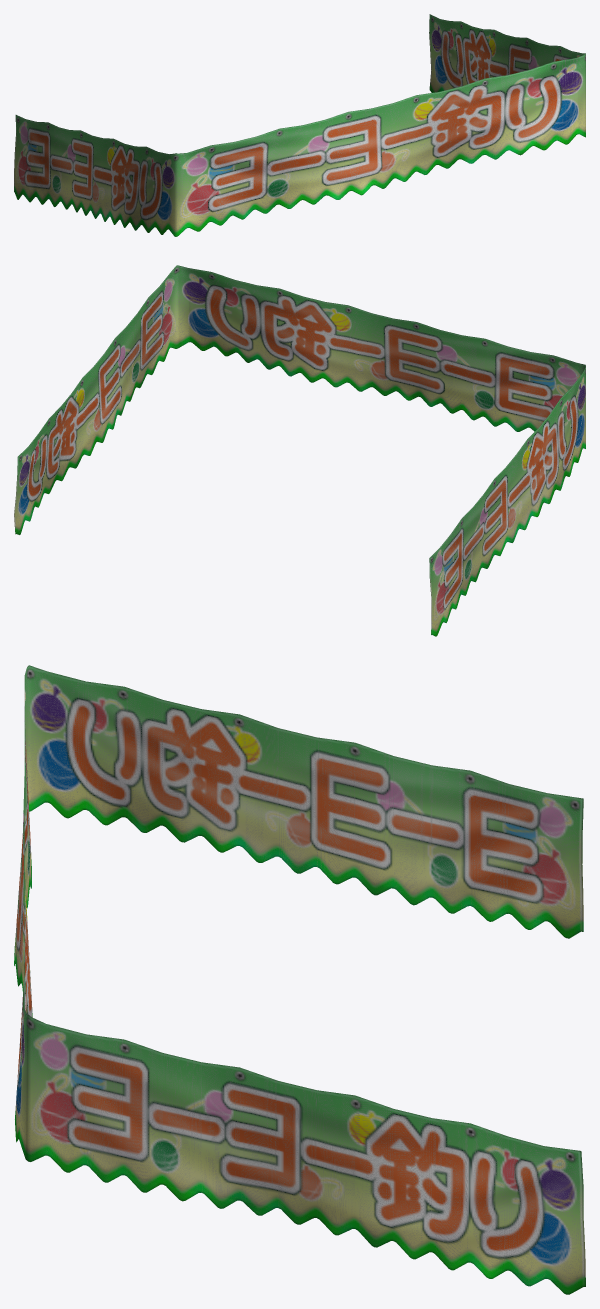
File: jsf_ShopCurtain_WaterBalloonFishing_02.fbx
3 renders of one model, top to bottom at view 1: azimuth 30°, elevation 25°; view 2: azimuth 150°, elevation 25°; view 3: azimuth 270°, elevation 25°, orthographic. The views are drawn at different scales.
Parts seen in each view (by area): view 1: jsf_ShopCurtain_WaterBalloonFishing_02; view 2: jsf_ShopCurtain_WaterBalloonFishing_02; view 3: jsf_ShopCurtain_WaterBalloonFishing_02.
Boxes of the visible parts, box(x1,y1,x2,y2) form: jsf_ShopCurtain_WaterBalloonFishing_02: box(14, 14, 585, 236); jsf_ShopCurtain_WaterBalloonFishing_02: box(14, 265, 585, 636); jsf_ShopCurtain_WaterBalloonFishing_02: box(14, 665, 585, 1294).
Bounding box in the file's own units: 323 × 116 × 216.
